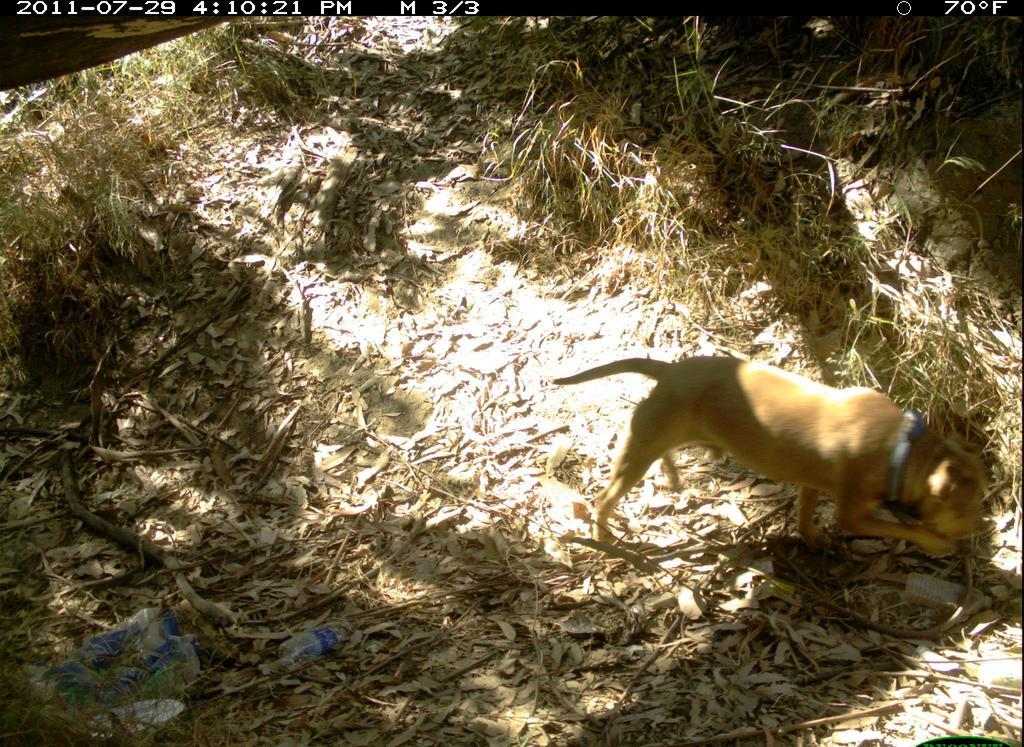dog: (521, 327, 1005, 597)
